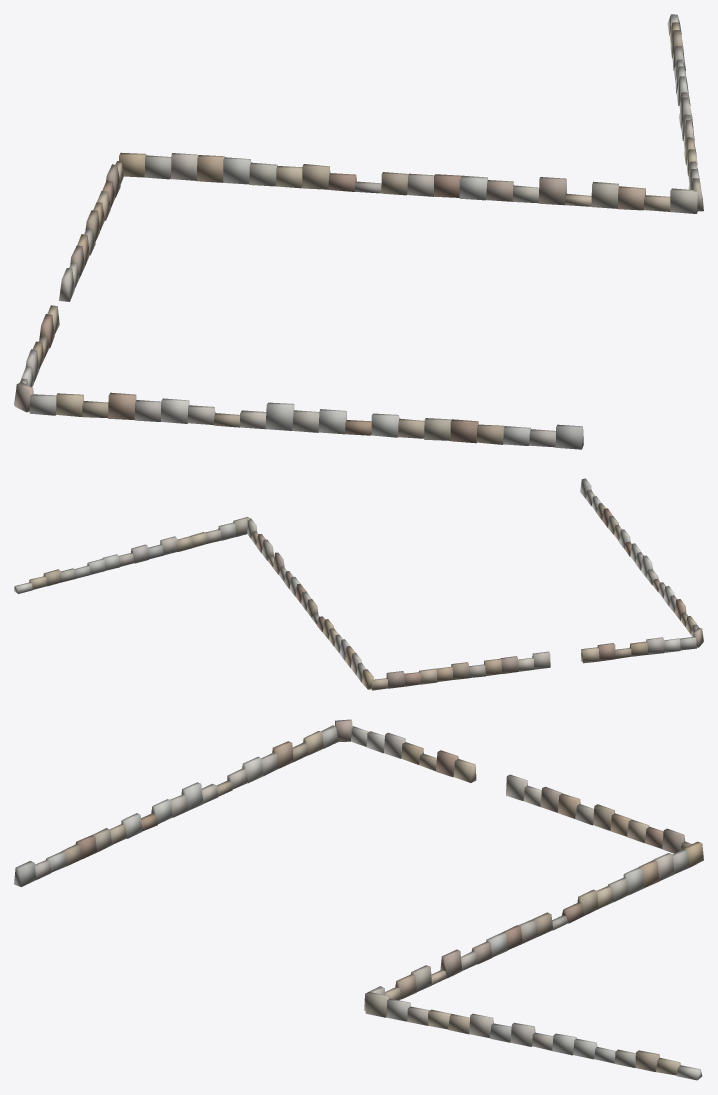
The model's file is farm_-48_-41_far.glb.
3 views of the same model, one above another, from view 1: azimuth 30°, elevation 25°; view 2: azimuth 150°, elevation 25°; view 3: azimuth 270°, elevation 25° (orthographic). The views are drawn at different scales.
Parts seen in each view (by area): view 1: geometry_0; view 2: geometry_0; view 3: geometry_0.
Boxes of the visible parts, x1=… form: geometry_0: x1=14, y1=14, x2=703, y2=449; geometry_0: x1=14, y1=478, x2=703, y2=690; geometry_0: x1=14, y1=719, x2=703, y2=1080.
Size of the model in its own units: 58.85 by 2.77 by 47.22.
